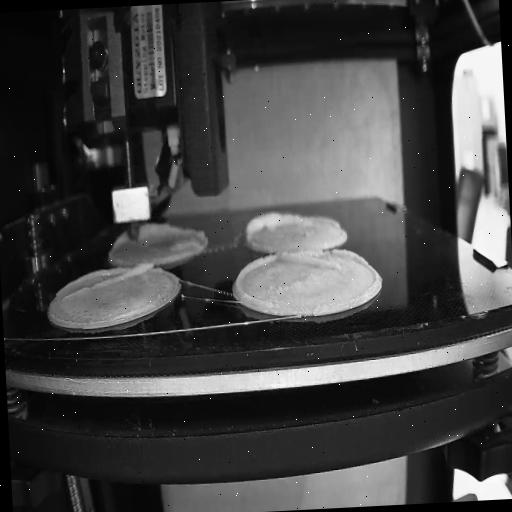over_extrusion: (60, 259, 155, 306), (278, 247, 368, 275), (233, 256, 276, 308), (243, 210, 301, 240), (139, 222, 204, 240), (108, 228, 132, 252), (312, 212, 342, 231)
